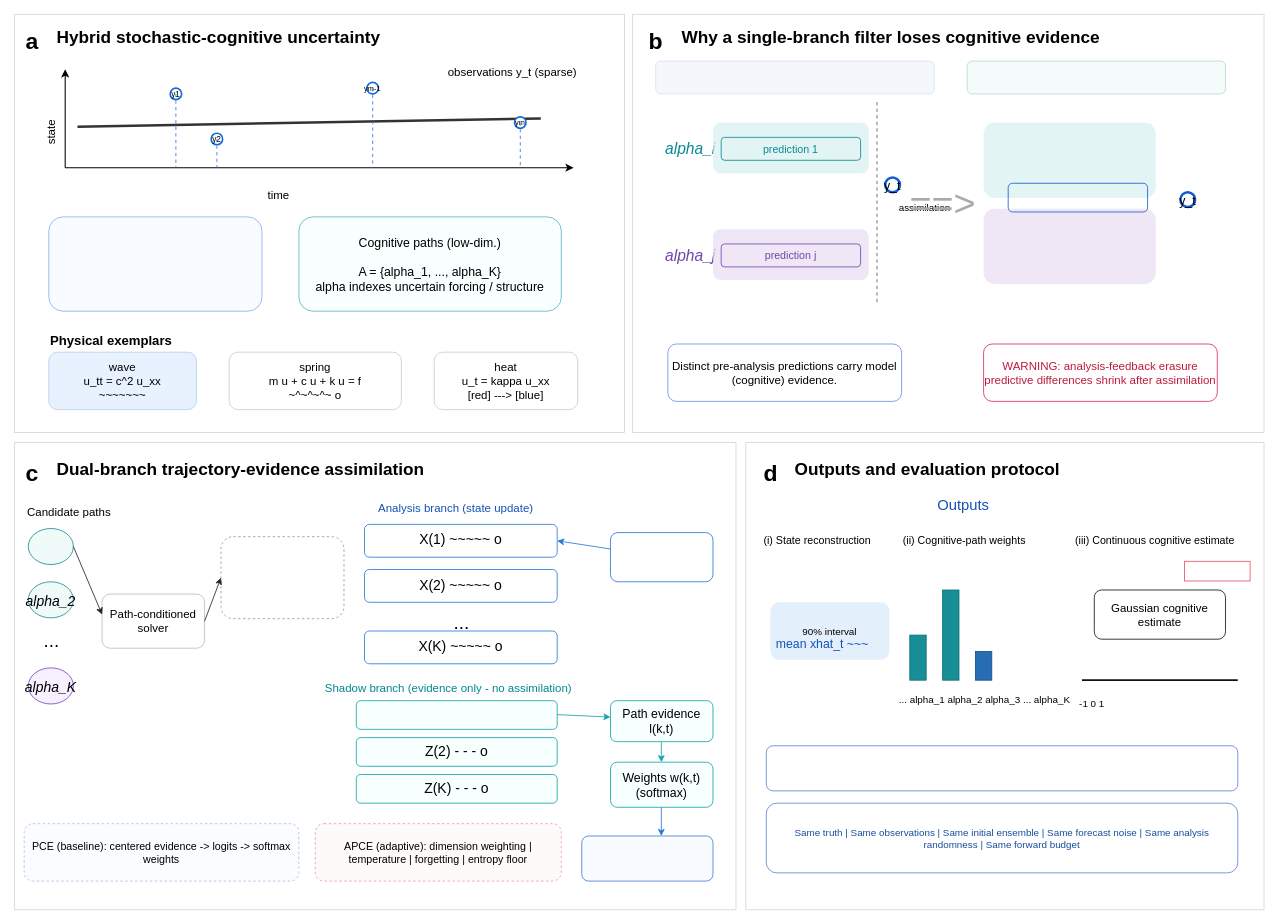
The diagram is 1278 pixels wide and 924 high, and some of its shapes have lost their labels. The centre of each missing label's shape, as x and y in pixels:
"After single-branch analysis" goes at (1095,77).
"alpha_1" goes at (50,546).
"alpha_hat_t" goes at (1217,570).
"Before analysis (predictions in observation space)" goes at (794,77).
"Fairness protocol (equal footing across methods)" goes at (1001,768).
"merged prediction" goes at (1077,197).
"Observation model y_t = H_t x_t + e_t e_t ~ N(0, R_t)" goes at (155,263).
"Observations y_t" goes at (661,557).
"Shared forecast perturbations (common random numbers)" goes at (282,577).
"Weighted state estimate xhat_t" goes at (647,858).
"Z(1) - - - o" goes at (456,714).
